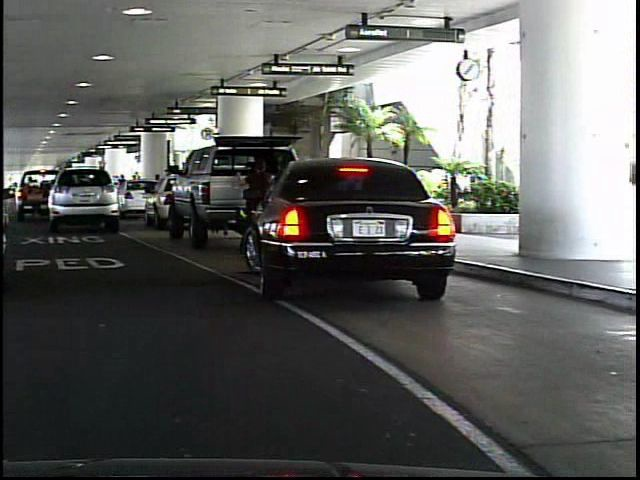person: (232, 150, 283, 254)
